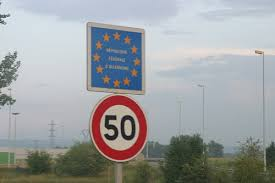Speed_limit_50km: (90, 95, 150, 162)
